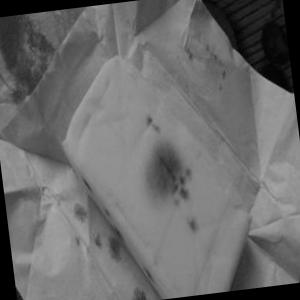butter: (42, 42, 262, 300)
